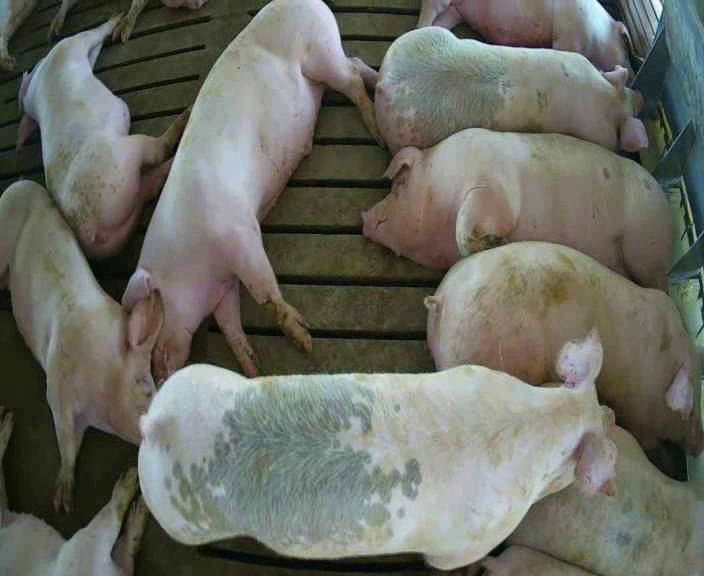pig: (142, 331, 616, 567), (123, 3, 378, 382), (425, 242, 703, 477), (363, 128, 671, 289), (375, 27, 647, 152), (509, 426, 688, 573), (419, 2, 631, 73)
